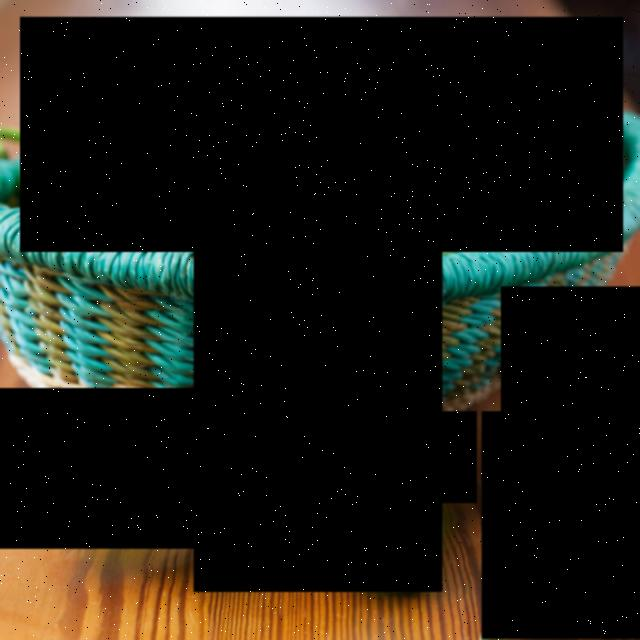Chili_Pepper: (20, 17, 623, 252), (196, 23, 442, 592), (0, 388, 325, 549), (482, 411, 640, 639), (502, 287, 640, 422), (431, 412, 477, 503)
